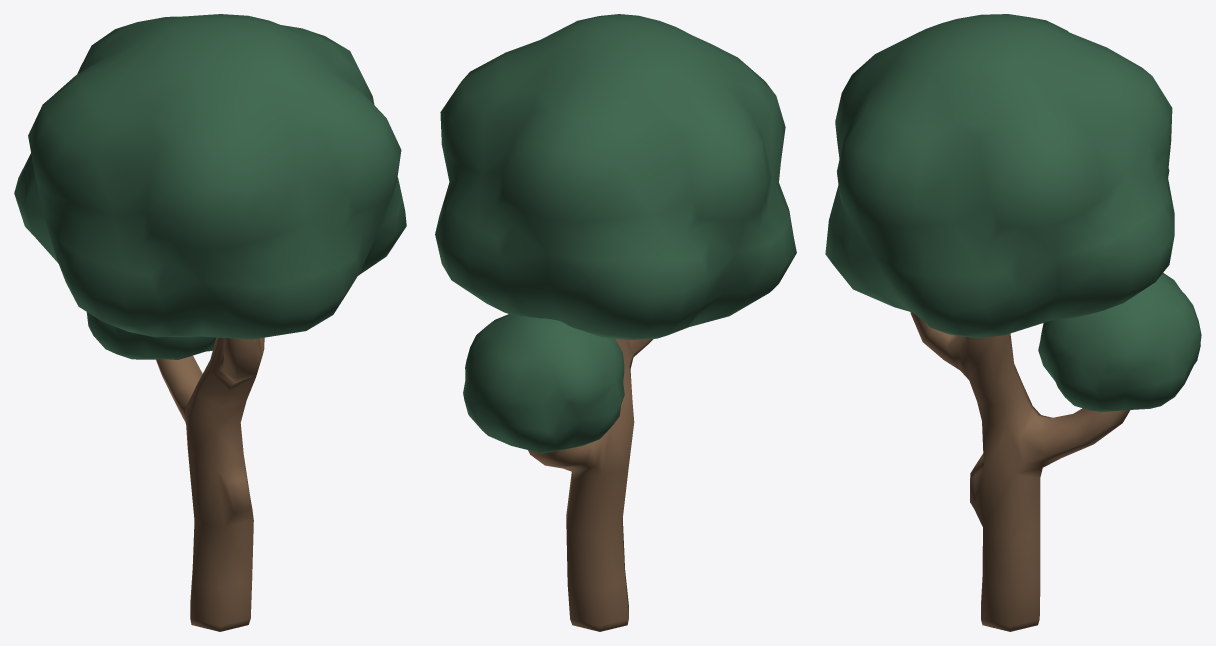
File: tree02.fbx
3 renders of one model, left to right at view 1: azimuth 30°, elevation 25°; view 2: azimuth 150°, elevation 25°; view 3: azimuth 270°, elevation 25°, orthographic. The views are drawn at different scales.
Visible parts, largest first — view 1: Tree_D_Top_02_LOD1_Mat_Nature_0.006, Tree_Btm_D_02_LOD1_Mat_Nature_0.006; view 2: Tree_D_Top_02_LOD1_Mat_Nature_0.006, Tree_Btm_D_02_LOD1_Mat_Nature_0.006; view 3: Tree_D_Top_02_LOD1_Mat_Nature_0.006, Tree_Btm_D_02_LOD1_Mat_Nature_0.006.
Part boxes in pixels (<box>): Tree_D_Top_02_LOD1_Mat_Nature_0.006: <box>14,14,406,359</box>; Tree_Btm_D_02_LOD1_Mat_Nature_0.006: <box>156,337,264,631</box>; Tree_D_Top_02_LOD1_Mat_Nature_0.006: <box>435,14,796,453</box>; Tree_Btm_D_02_LOD1_Mat_Nature_0.006: <box>528,338,653,631</box>; Tree_D_Top_02_LOD1_Mat_Nature_0.006: <box>825,14,1201,412</box>; Tree_Btm_D_02_LOD1_Mat_Nature_0.006: <box>910,312,1130,631</box>.
Bounding box in the file's own units: 1.58 × 2.76 × 1.61.
